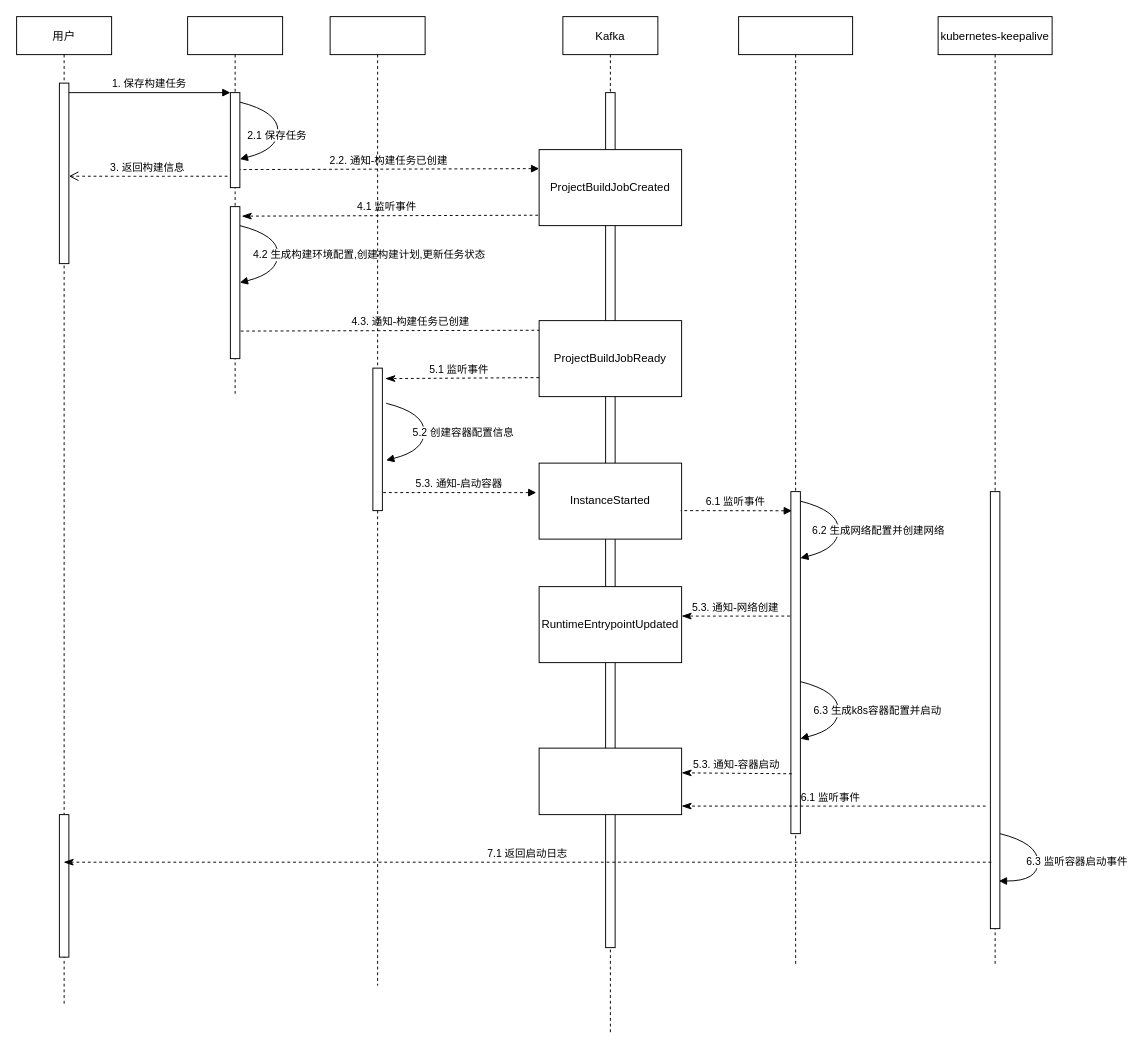
Image size: 1143x1050. Some labels were removed from this diagram. Each missing label, with the centre of its shape:
kubernetes: point 795,491
RuntimeStarted: point 610,781
容器: point 377,501
项目: point 235,206
